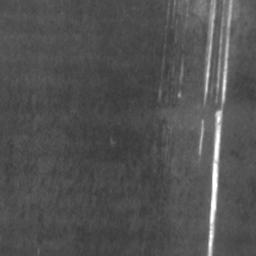Bright scratch: (209, 0, 234, 256), (205, 0, 218, 105), (200, 119, 205, 157)
